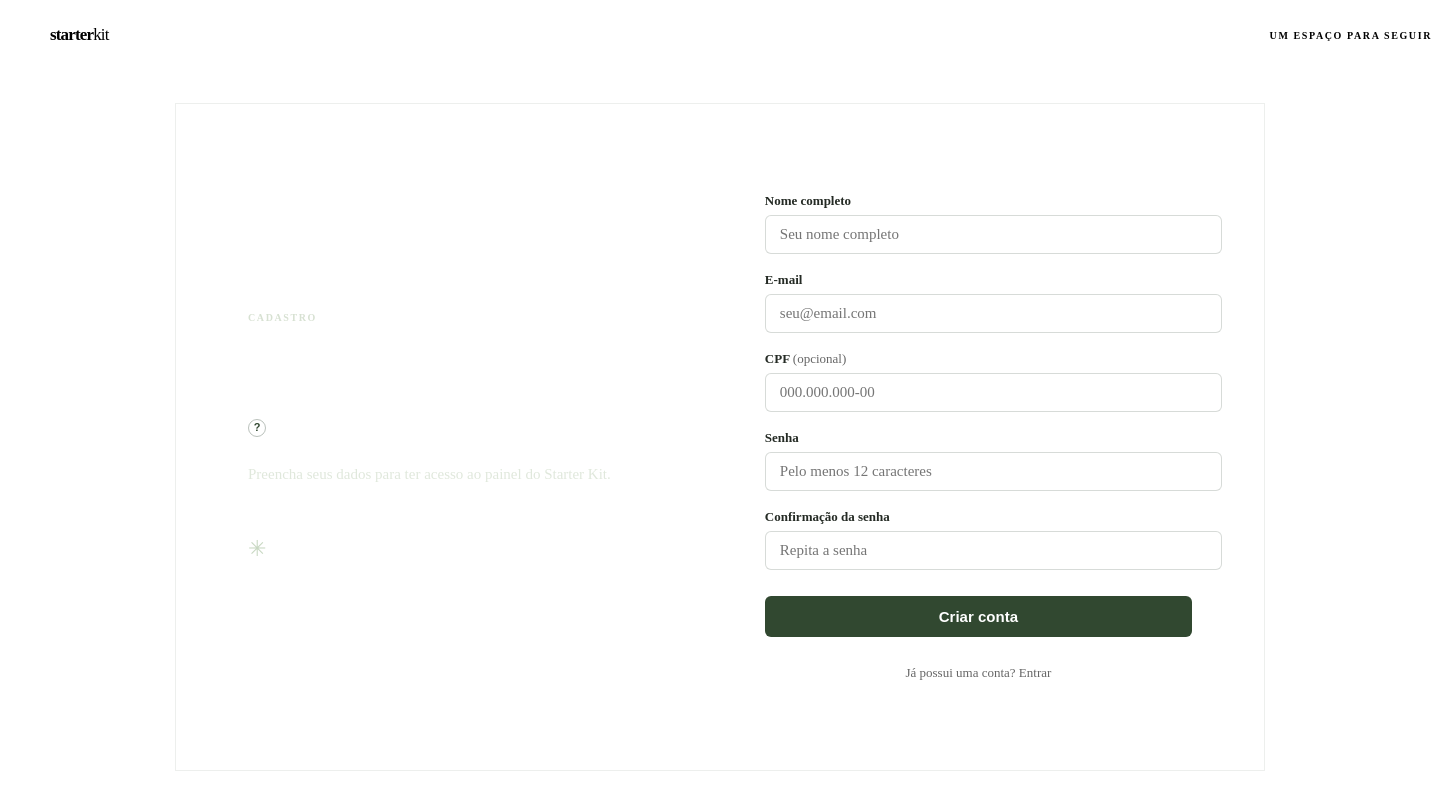
RegisterPage.vue › validates that password and confirmation must match
Type "Carlos" into the field with id "register-name" at (993, 234), box left=765, top=214, right=1222, bottom=254
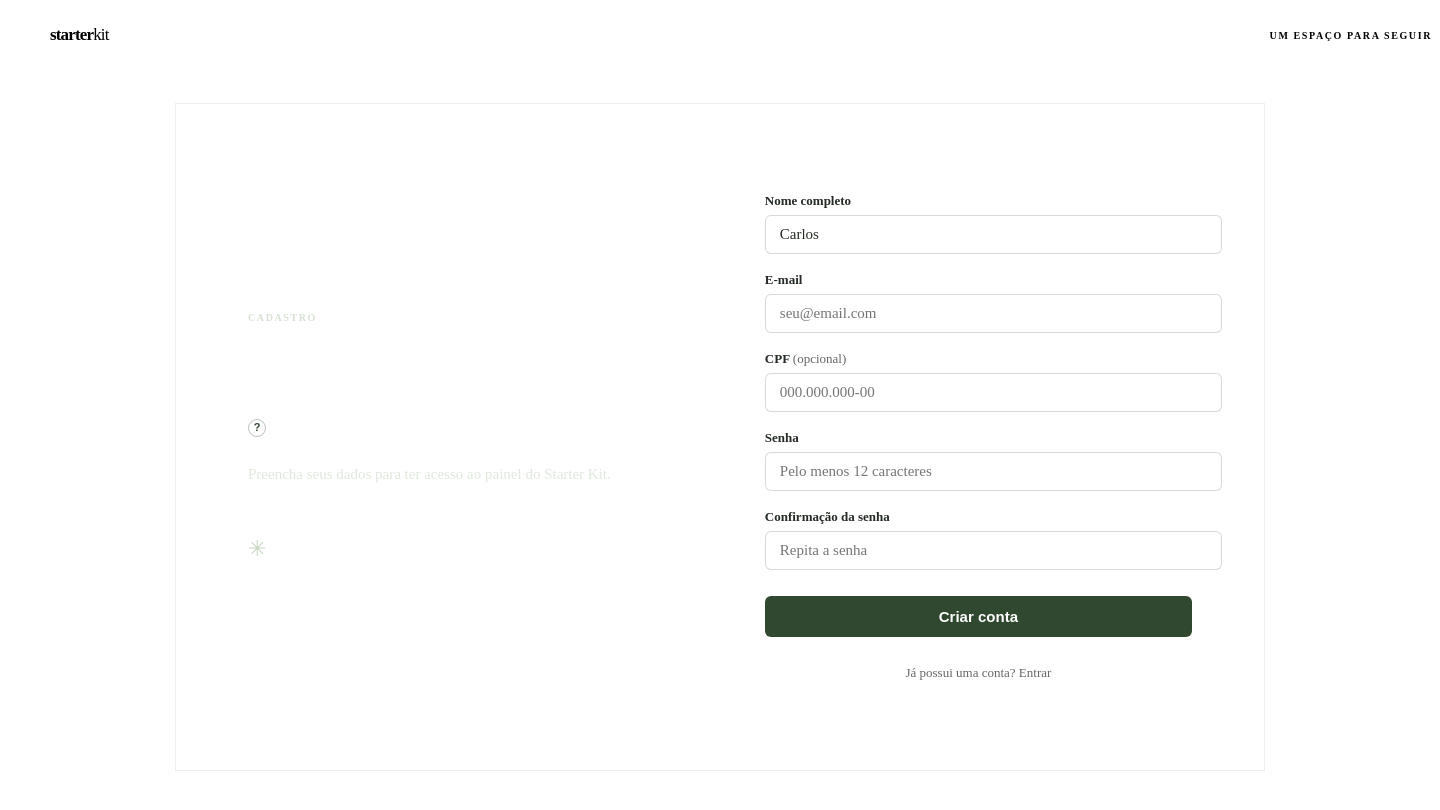
Type "carlos@example.com" into the field with id "register-email" at (993, 313), box left=765, top=294, right=1222, bottom=332
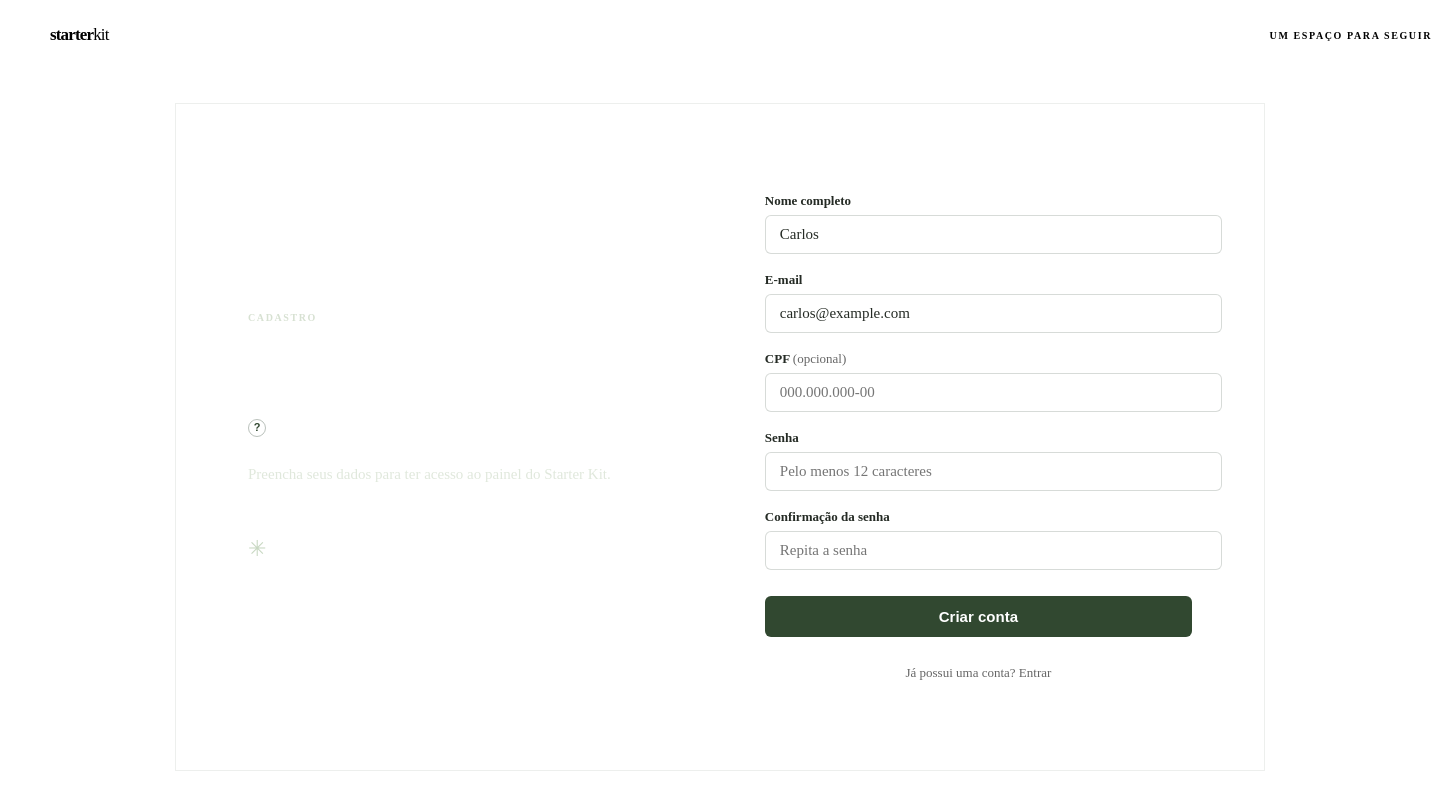
Type "password12345" into the password field with id "register-password" at (993, 471), box left=765, top=452, right=1222, bottom=490
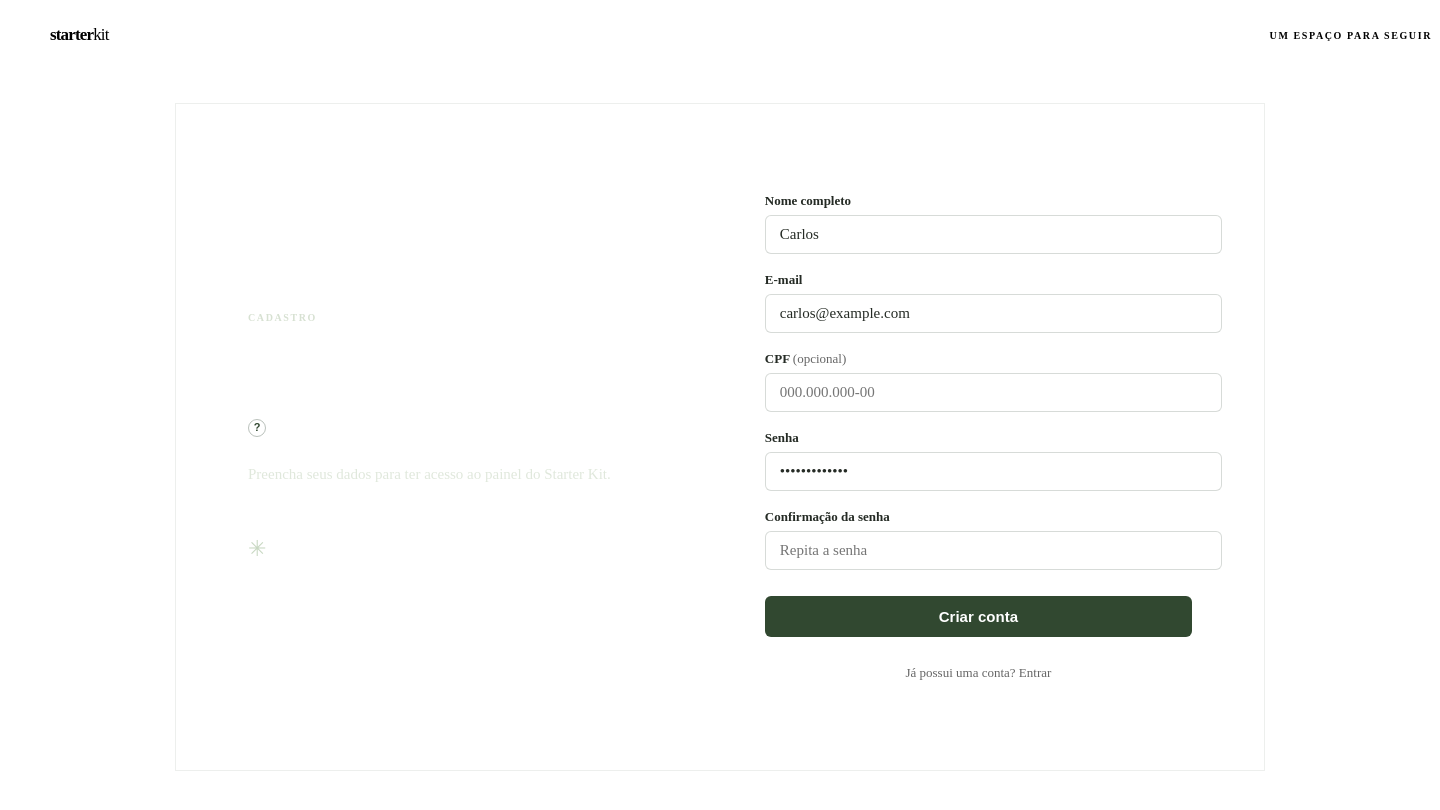
Type "differentPassword" into the password field with id "register-password-confirmation" at (993, 550), box left=765, top=530, right=1222, bottom=570
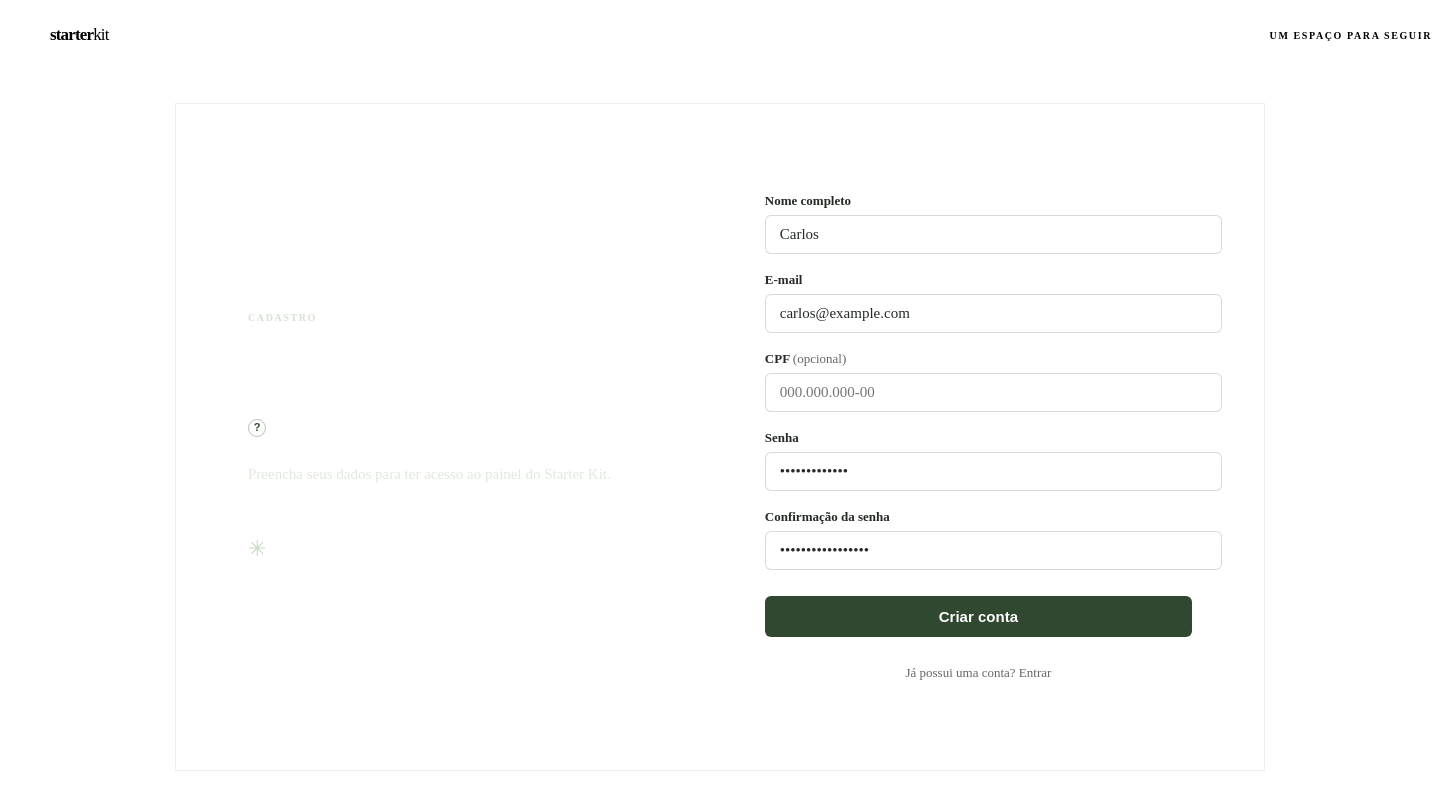
Submit the form, box left=765, top=192, right=1192, bottom=680
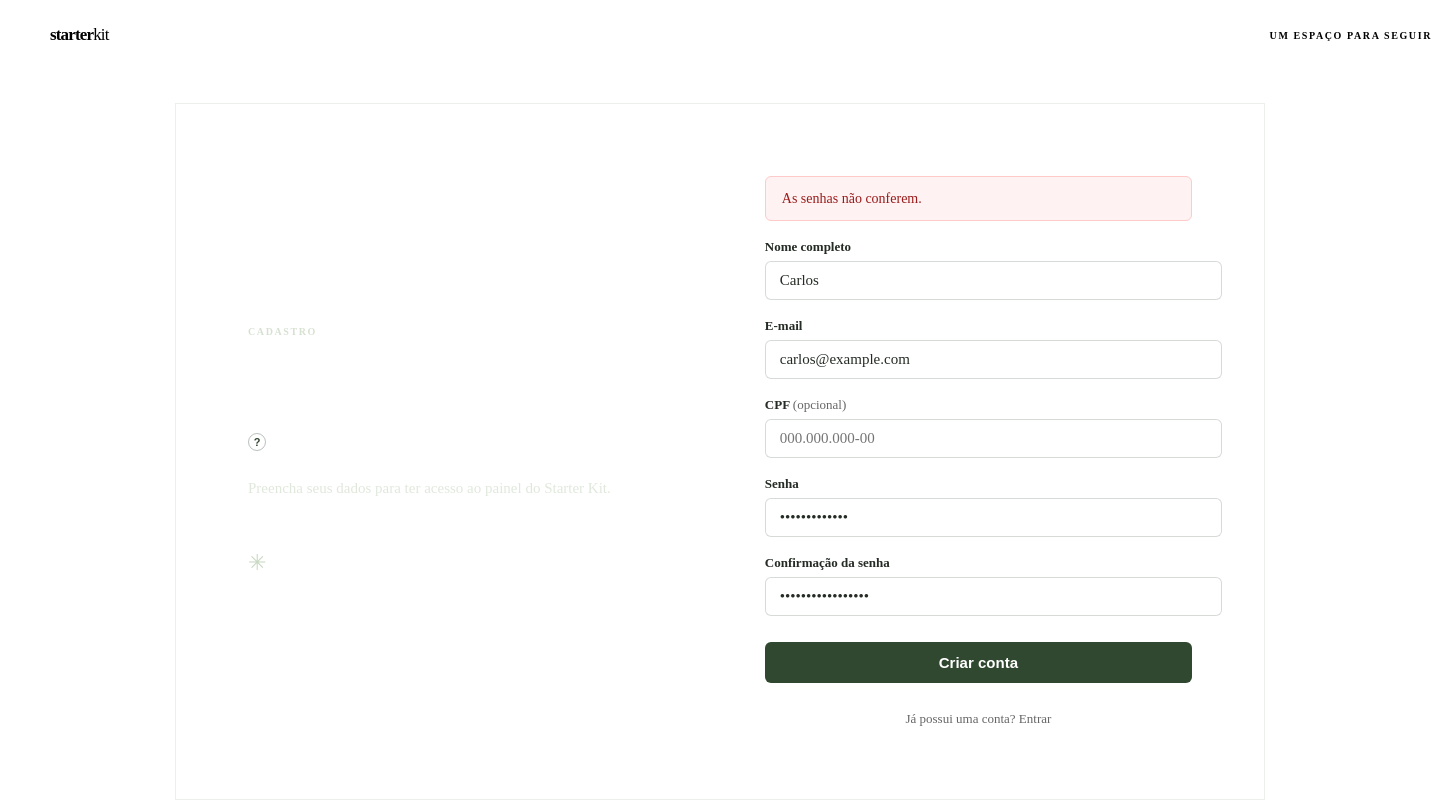
Now the message "As senhas não conferem." is shown, box left=765, top=176, right=1192, bottom=221
